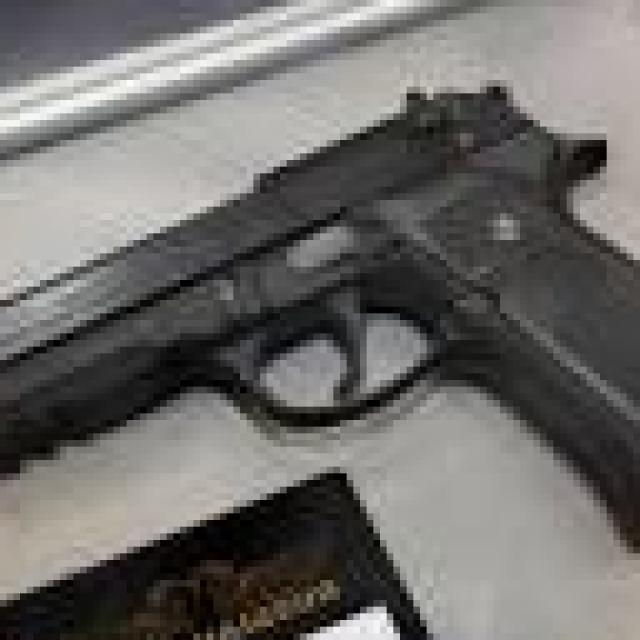Gun: (14, 86, 624, 596)
